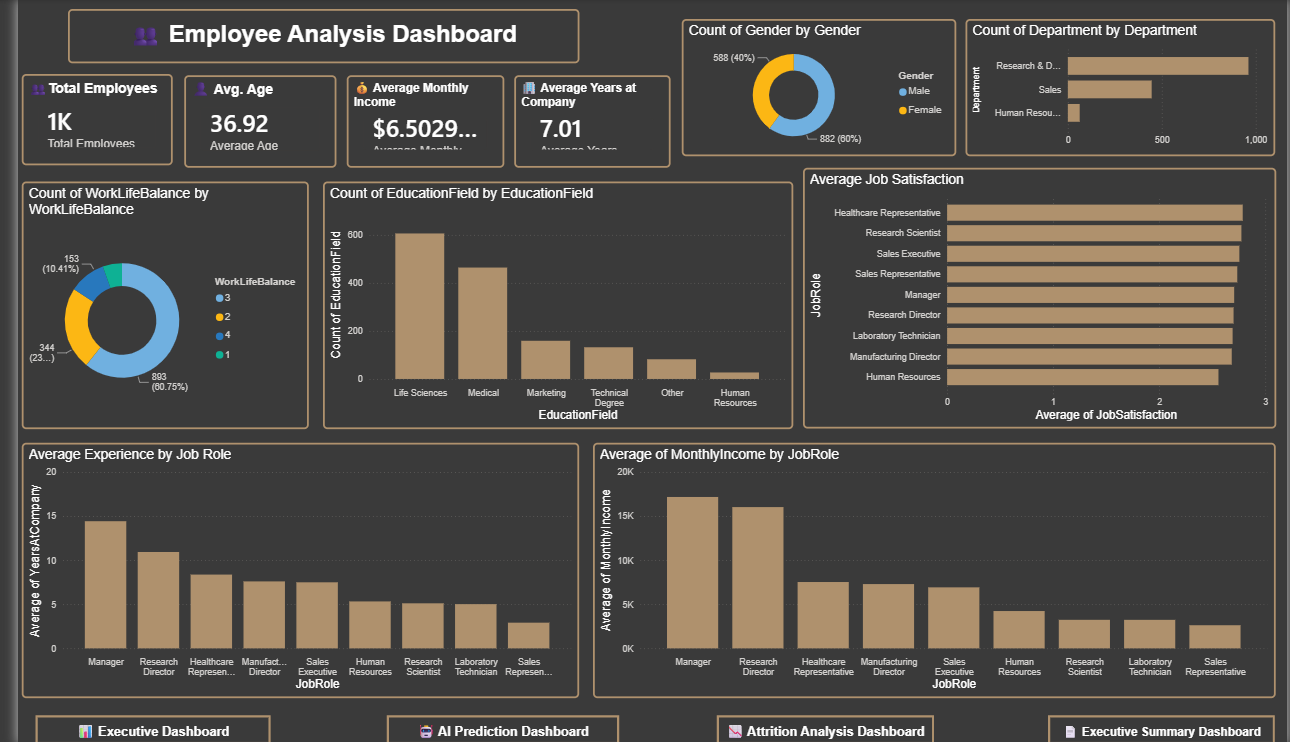

The dashboard page shown, as its layout file describes it:
{"tool":"powerbi","page":{"name":"Employee Analysis","canvas":[1700,1000],"ordinal":1},"visuals":[{"type":"textbox","box":[67.4,12.8,685.3,72.9],"z":0},{"type":"cardVisual","title":"👥Total Employees","fields":{"Data":["FactEmployee.Total Employees"]},"box":[5.5,100.2,202.3,122.1],"z":1000},{"type":"cardVisual","title":"👤 Avg. Age","fields":{"Data":["FactEmployee.Average Age"]},"box":[222.3,102.1,204.1,123.9],"z":2000},{"type":"cardVisual","title":"💰 Average Monthly Income","fields":{"Data":["FactEmployee.Average Monthly Income"]},"box":[441,102.1,211.4,123.9],"z":3000},{"type":"cardVisual","title":"🏢 Average Years at Company","fields":{"Data":["FactEmployee.Average Years"]},"box":[665.2,102.1,209.6,123.9],"z":4000},{"type":"clusteredBarChart","fields":{"Category":["FactEmployee.Department"],"Y":["CountNonNull(FactEmployee.Department)"]},"box":[1270.3,27.3,415.5,184.1],"z":5000},{"type":"donutChart","fields":{"Category":["FactEmployee.Gender"],"Y":["CountNonNull(FactEmployee.Gender)"]},"box":[889.4,27.3,368.1,184.1],"z":6000},{"type":"columnChart","fields":{"Category":["FactEmployee.EducationField"],"Y":["CountNonNull(FactEmployee.EducationField)"]},"box":[408.2,244.2,630.6,331.7],"z":7000},{"type":"columnChart","fields":{"Category":["FactEmployee.JobRole"],"Y":["Avg(FactEmployee.MonthlyIncome)"]},"box":[770.9,594.1,914.9,342.6],"z":8000},{"type":"columnChart","title":"Average Experience by Job Role","fields":{"Category":["FactEmployee.JobRole"],"Y":["Avg(FactEmployee.YearsAtCompany)"]},"box":[5.5,594.1,747.2,342.6],"z":9000},{"type":"barChart","title":"Average Job Satisfaction","fields":{"Category":["FactEmployee.JobRole"],"Y":["Avg(FactEmployee.JobSatisfaction)"]},"box":[1051.6,226,634.2,349.9],"z":10000},{"type":"donutChart","fields":{"Category":["FactEmployee.WorkLifeBalance"],"Y":["CountNonNull(FactEmployee.WorkLifeBalance)"]},"box":[5.5,244.2,384.5,331.7],"z":11000},{"type":"actionButton","box":[936.8,960.4,291.6,40.1],"z":11001},{"type":"actionButton","box":[493.9,960.4,311.6,40.1],"z":11002},{"type":"actionButton","box":[1381.4,960.4,304.4,40.1],"z":11003},{"type":"actionButton","box":[23.7,960.4,315.3,40.1],"z":11004}]}

Visuals, with their boxes in screenshot pixels (x1, y1, x2, y2), scaled from the page's 1700x1000 canvas onto the 1290x742 screenshot:
textbox: [x1=51, y1=9, x2=571, y2=64]
"👥Total Employees" cardVisual: [x1=4, y1=74, x2=158, y2=165]
"👤 Avg. Age" cardVisual: [x1=169, y1=76, x2=324, y2=168]
"💰 Average Monthly Income" cardVisual: [x1=335, y1=76, x2=495, y2=168]
"🏢 Average Years at Company" cardVisual: [x1=505, y1=76, x2=664, y2=168]
clusteredBarChart - FactEmployee.Department x CountNonNull(FactEmployee.Department): [x1=964, y1=20, x2=1279, y2=157]
donutChart - FactEmployee.Gender x CountNonNull(FactEmployee.Gender): [x1=675, y1=20, x2=954, y2=157]
columnChart - FactEmployee.EducationField x CountNonNull(FactEmployee.EducationField): [x1=310, y1=181, x2=788, y2=427]
columnChart - FactEmployee.JobRole x Avg(FactEmployee.MonthlyIncome): [x1=585, y1=441, x2=1279, y2=695]
"Average Experience by Job Role" columnChart: [x1=4, y1=441, x2=571, y2=695]
"Average Job Satisfaction" barChart: [x1=798, y1=168, x2=1279, y2=427]
donutChart - FactEmployee.WorkLifeBalance x CountNonNull(FactEmployee.WorkLifeBalance): [x1=4, y1=181, x2=296, y2=427]
actionButton: [x1=711, y1=713, x2=932, y2=741]
actionButton: [x1=375, y1=713, x2=611, y2=741]
actionButton: [x1=1048, y1=713, x2=1279, y2=741]
actionButton: [x1=18, y1=713, x2=257, y2=741]
